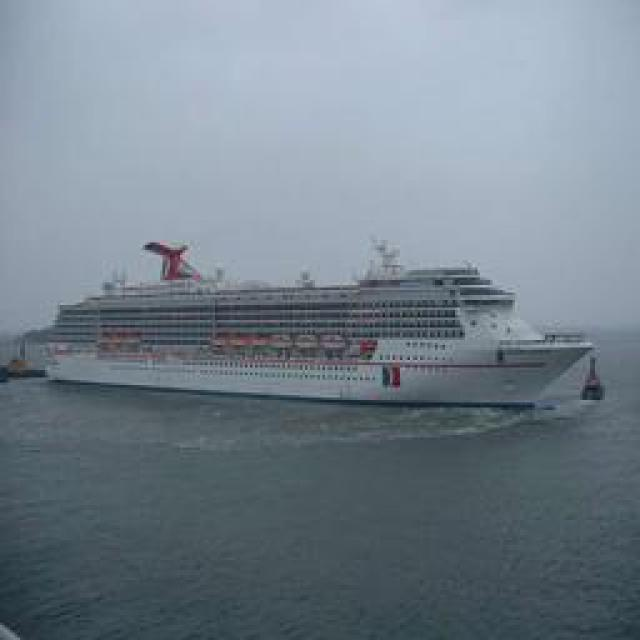Ship: (41, 243, 606, 411)
